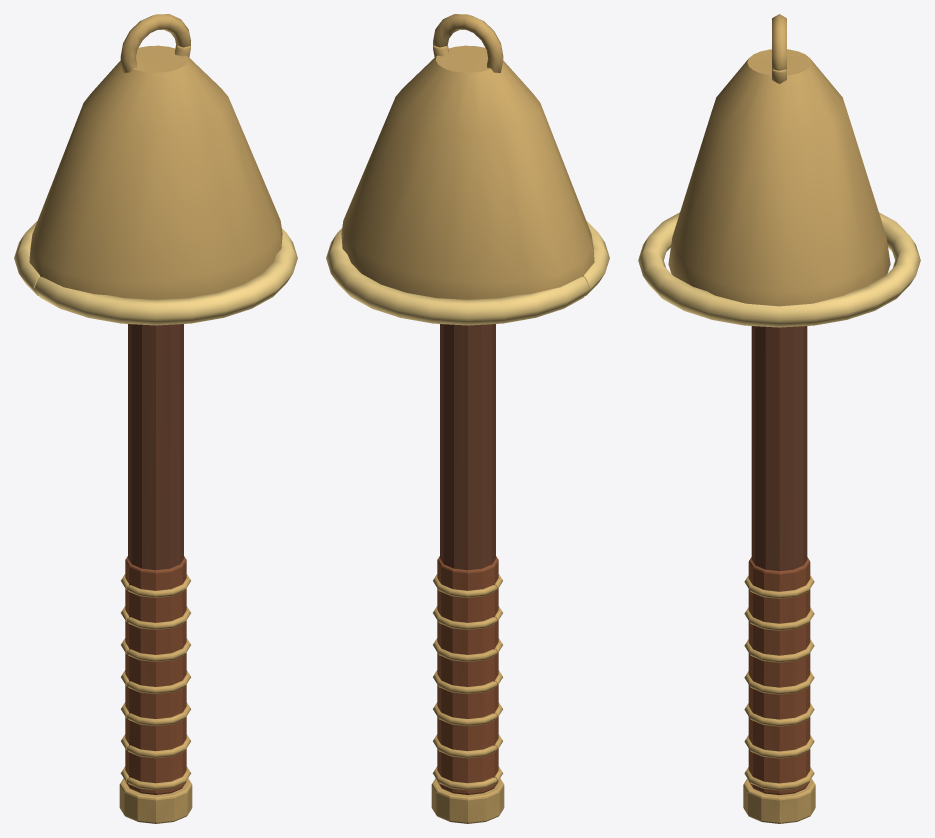
The model's file is item_019.glb.
3 views of the same model, side by side, from view 1: azimuth 30°, elevation 25°; view 2: azimuth 150°, elevation 25°; view 3: azimuth 270°, elevation 25° (orthographic).
Parts seen in each view (by area): view 1: Item_019_funeral_bell; view 2: Item_019_funeral_bell; view 3: Item_019_funeral_bell.
Boxes of the visible parts, box(x1,y1,x2,y2) form: Item_019_funeral_bell: box(14, 14, 297, 823); Item_019_funeral_bell: box(326, 14, 609, 823); Item_019_funeral_bell: box(638, 14, 920, 823).
Size of the model in its own units: 0.4351 by 1.35 by 0.4356.
